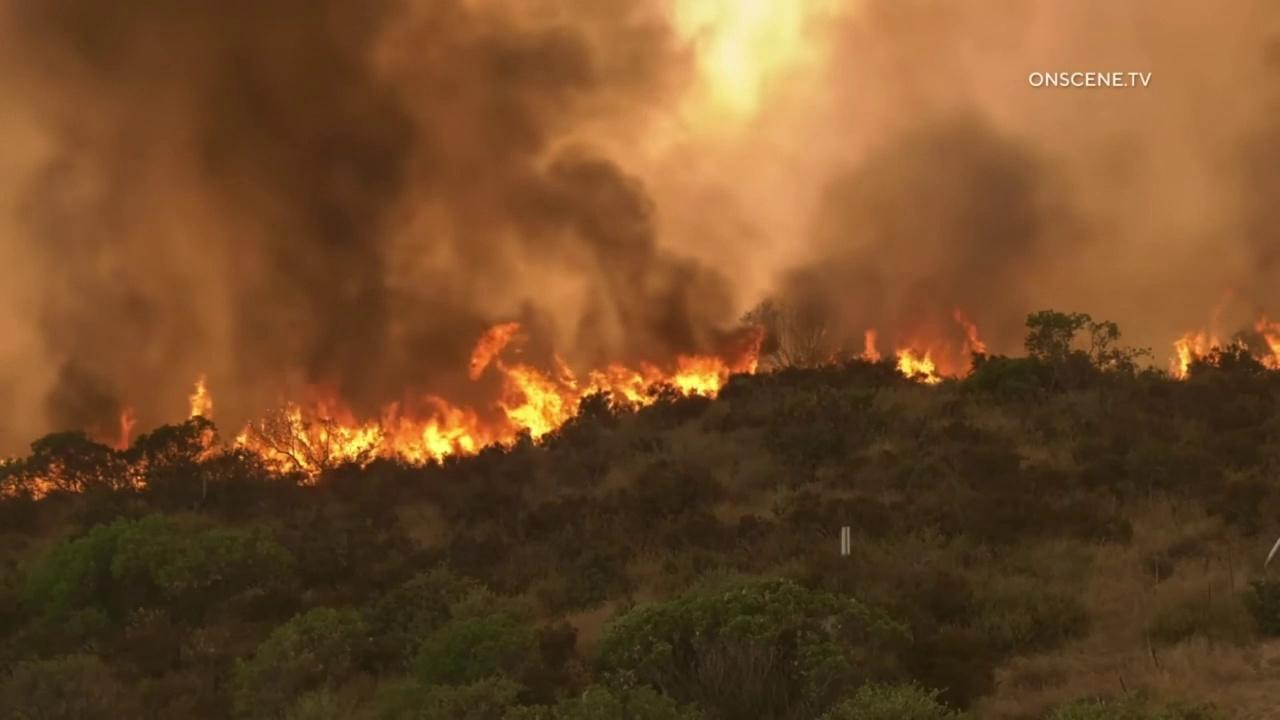fire: (186, 320, 768, 488), (0, 409, 149, 501), (894, 308, 988, 390), (1167, 328, 1225, 383), (1250, 314, 1280, 370), (853, 326, 882, 365), (1235, 337, 1248, 362)
smoke: (0, 0, 1280, 460)
